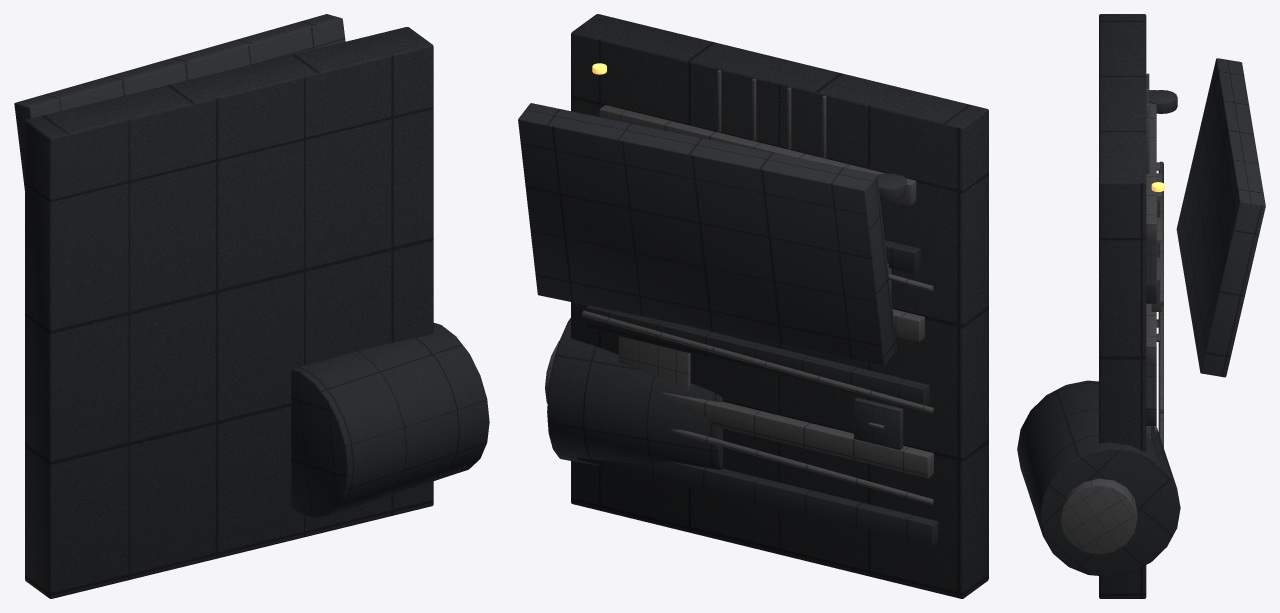
File: hull_module_left_v2_opt.glb
The picture shows the model from 3 angles, left to right: view 1: azimuth 30°, elevation 25°; view 2: azimuth 150°, elevation 25°; view 3: azimuth 270°, elevation 25°; orthographic projection. The views are drawn at different scales.
Visible parts, largest first — view 1: Band_0, Blister; view 2: Band_0, Blister, Band_1; view 3: Band_0, Blister, Band_1.
Part boxes in pixels (x1=…): Band_0: x1=25, y1=27, x2=489, y2=598; Blister: x1=14, y1=14, x2=345, y2=189; Band_0: x1=547, y1=14, x2=988, y2=598; Blister: x1=518, y1=103, x2=907, y2=450; Band_1: x1=545, y1=70, x2=933, y2=504; Band_0: x1=1017, y1=14, x2=1180, y2=598; Blister: x1=1149, y1=58, x2=1265, y2=377; Band_1: x1=1060, y1=73, x2=1163, y2=554.
Bounding box in the file's own units: 14.55 × 15.5 × 8.38.
Materials: 5 (4 with a texture image).
